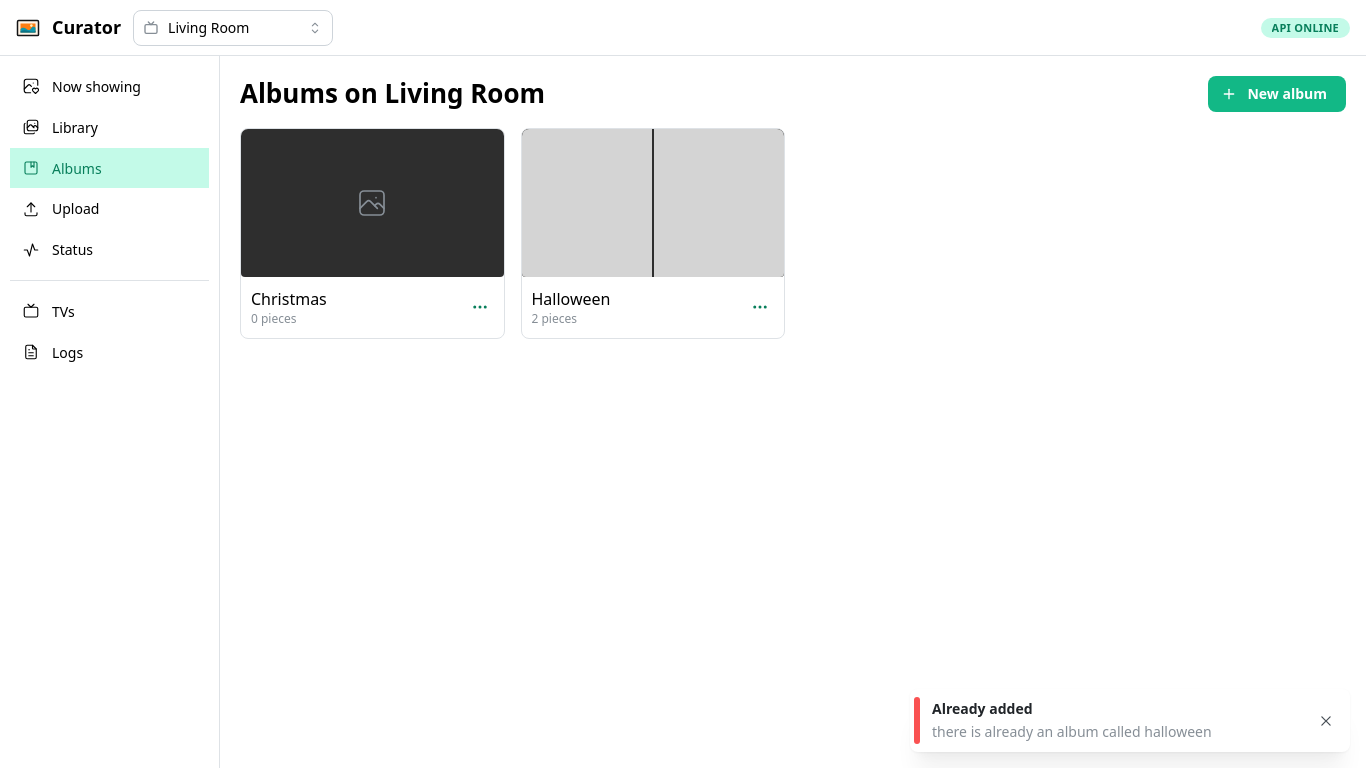
it: albums › deletes an album after asking
Step 1. Click the button named "Actions for Christmas" → (480, 308), box 466,294 -> 494,322
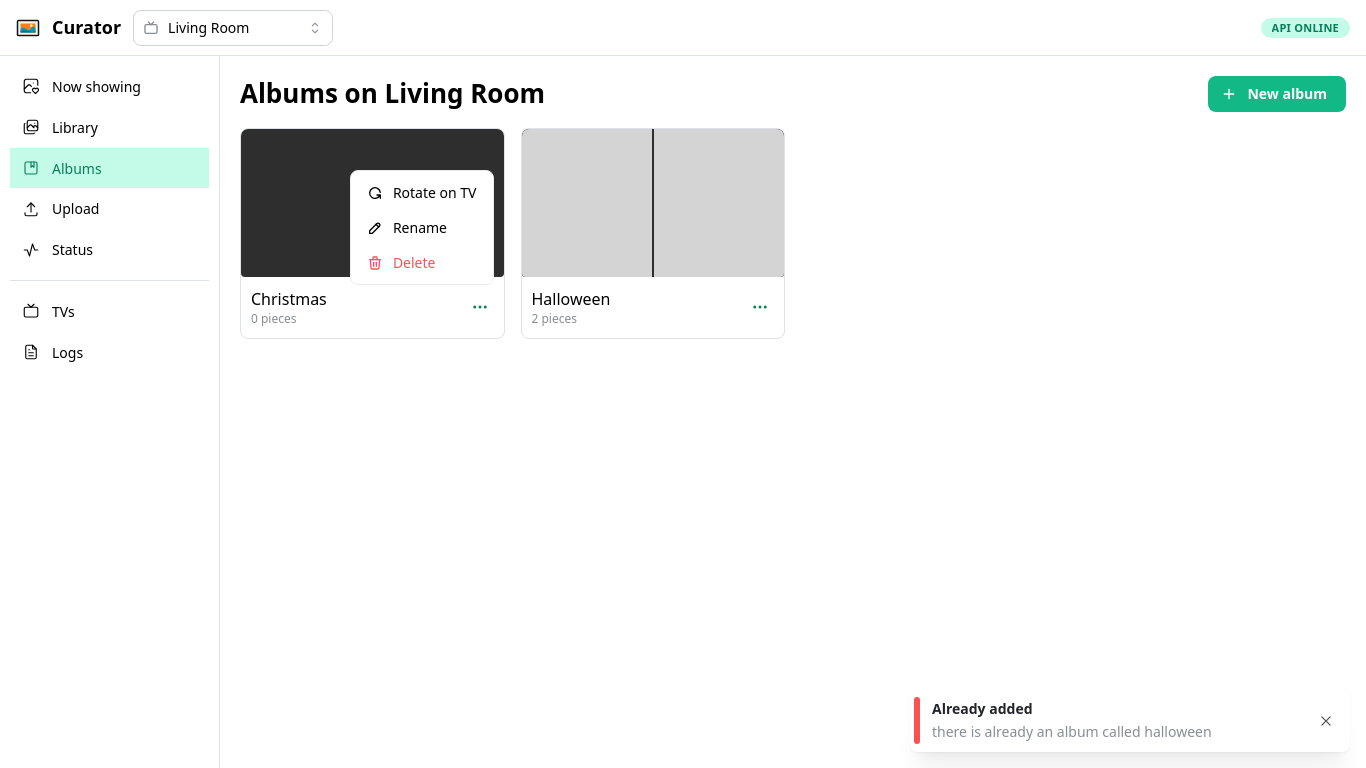
Step 2. Click the menu item "Delete" → (422, 263), box 355,246 -> 488,280
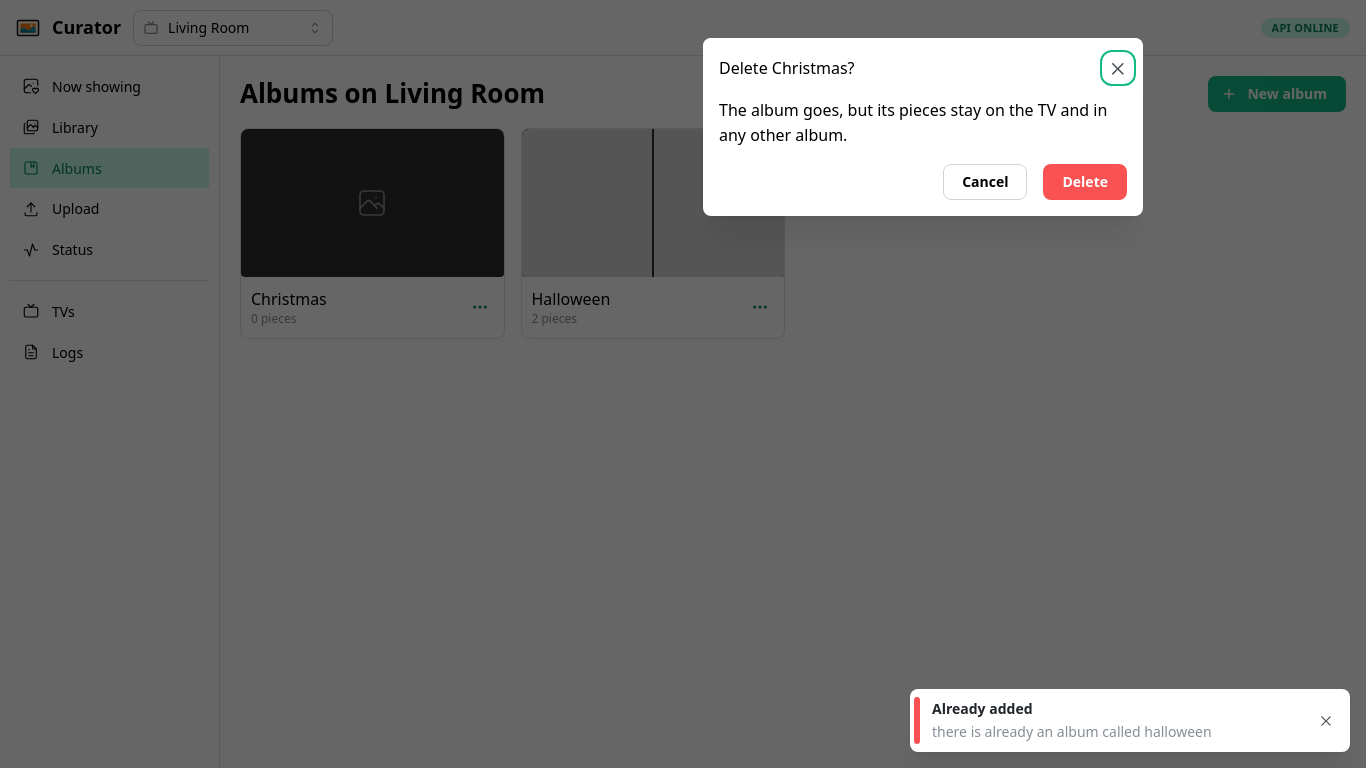
Step 3. Click the button "Delete" → (1085, 182), box 1044,164 -> 1127,200
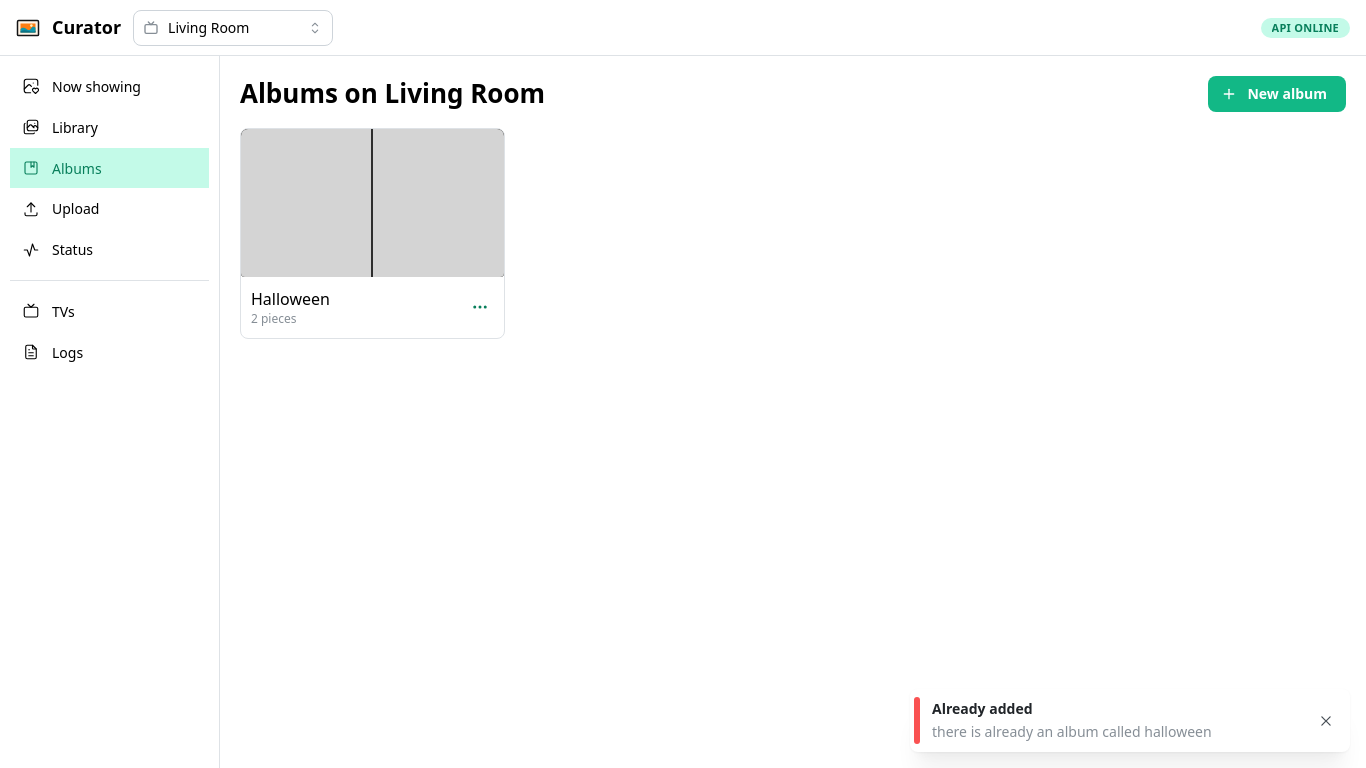
Result: the link "Christmas" is gone
